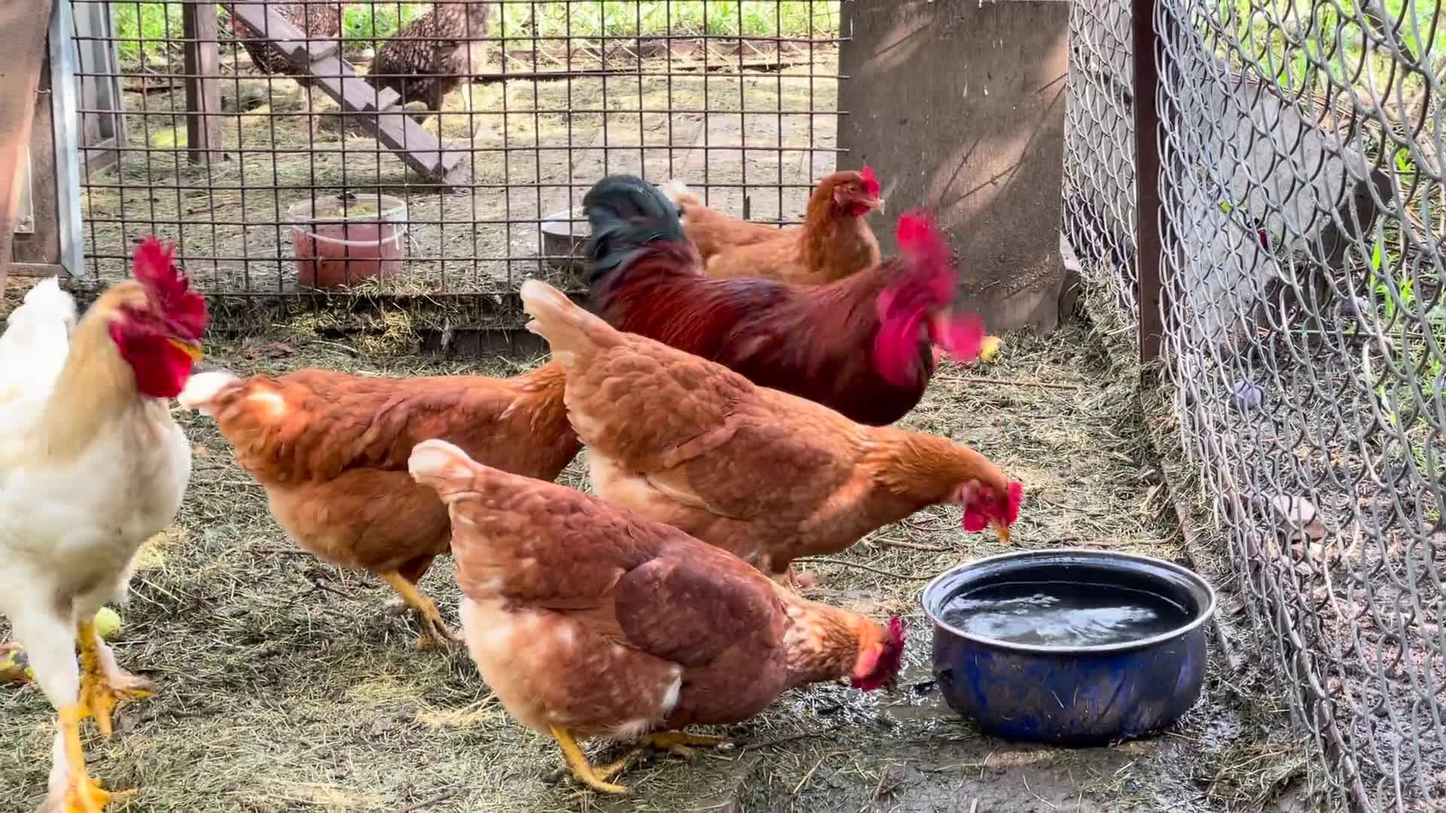Normal: (415, 439, 911, 798), (528, 283, 1021, 563), (8, 239, 213, 813), (215, 360, 573, 655), (605, 175, 951, 432), (665, 170, 891, 277)
